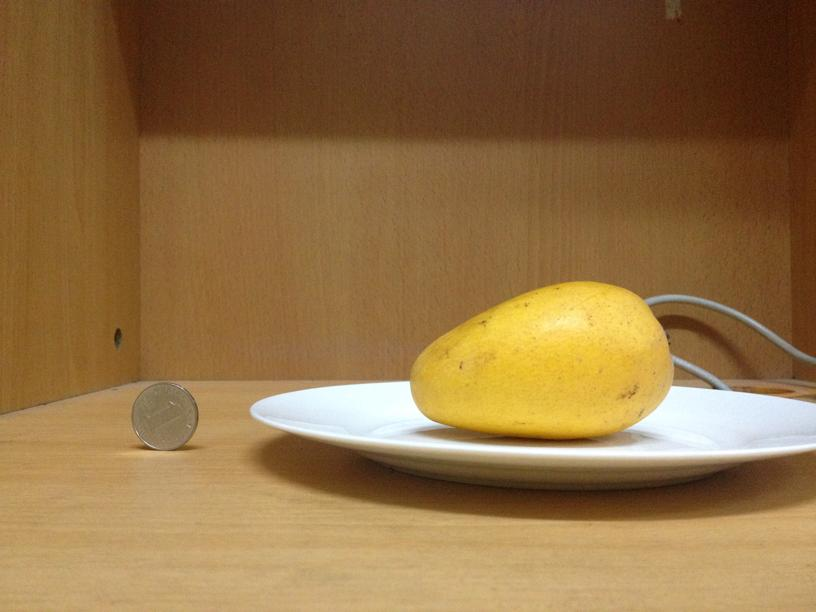coin: (131, 381, 198, 449)
mango: (406, 275, 674, 435)
